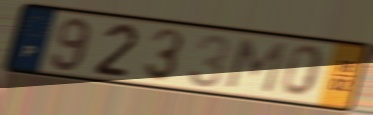0: (279, 42, 326, 100)
2: (91, 21, 140, 80)
3: (142, 26, 187, 84), (188, 33, 230, 88)
9: (48, 15, 93, 73)
M: (223, 36, 290, 96)
